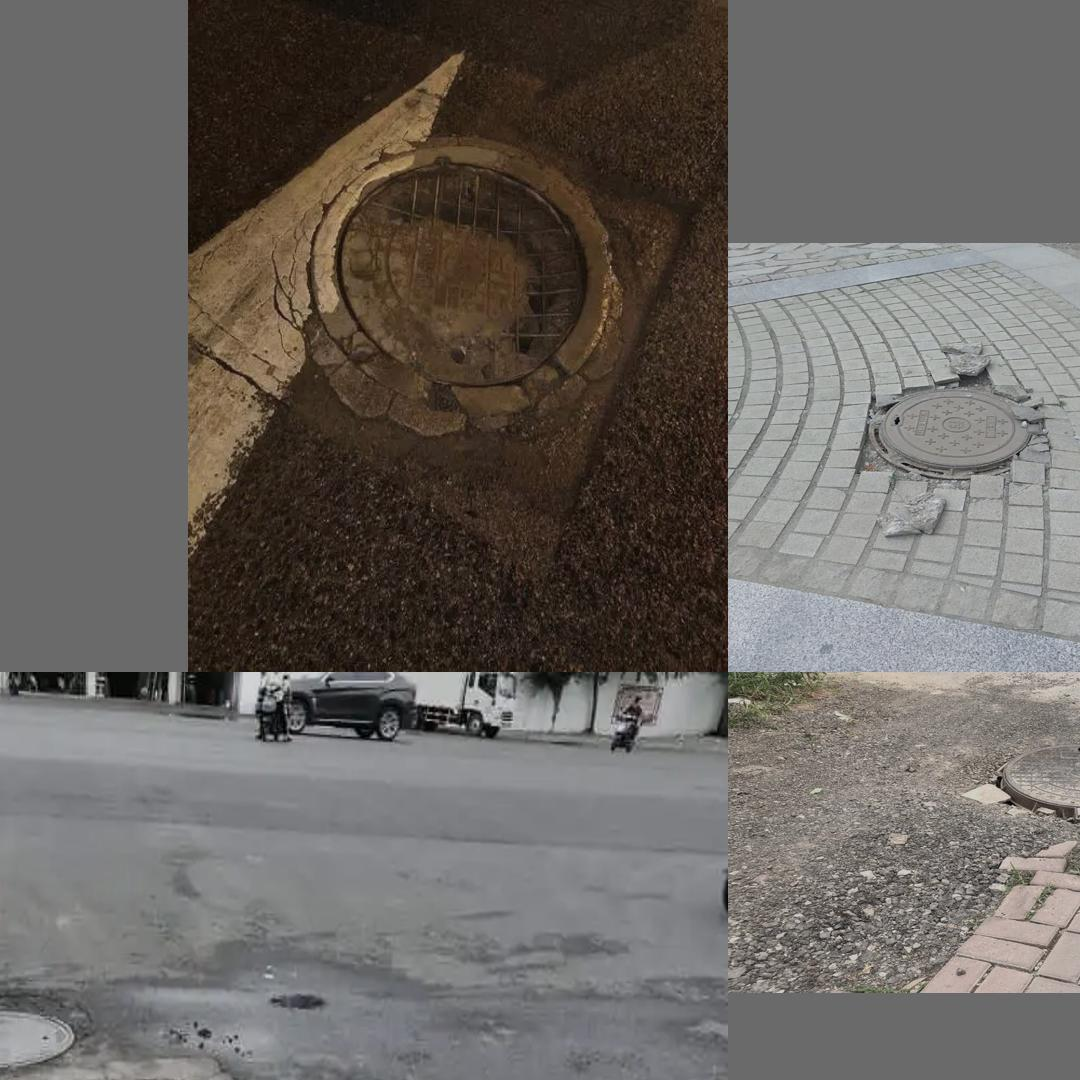circle: (226, 107, 677, 514), (837, 362, 1075, 500), (946, 722, 1080, 849), (0, 1060, 377, 1080)
